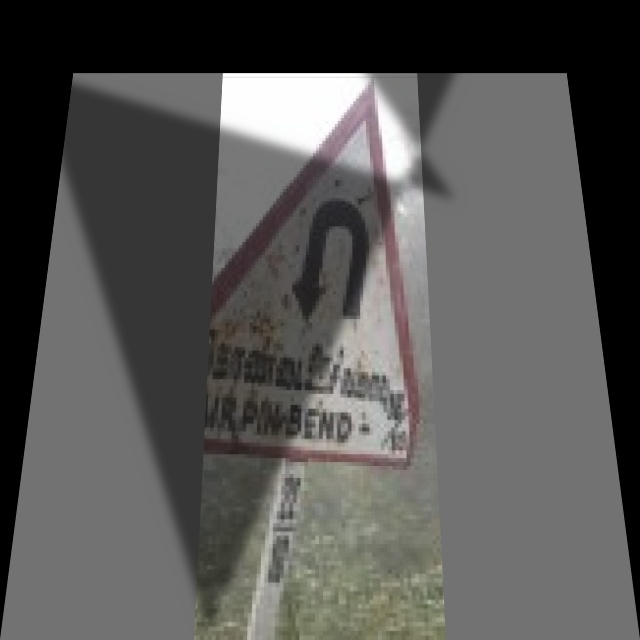Left_Hair_Pin_Bend: (265, 172, 413, 338)
